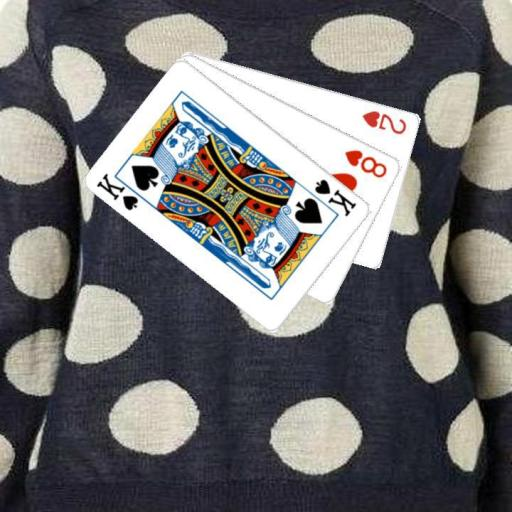2H: (359, 107, 408, 136)
8H: (342, 147, 389, 179)
KS: (94, 170, 149, 212), (312, 176, 359, 218)
